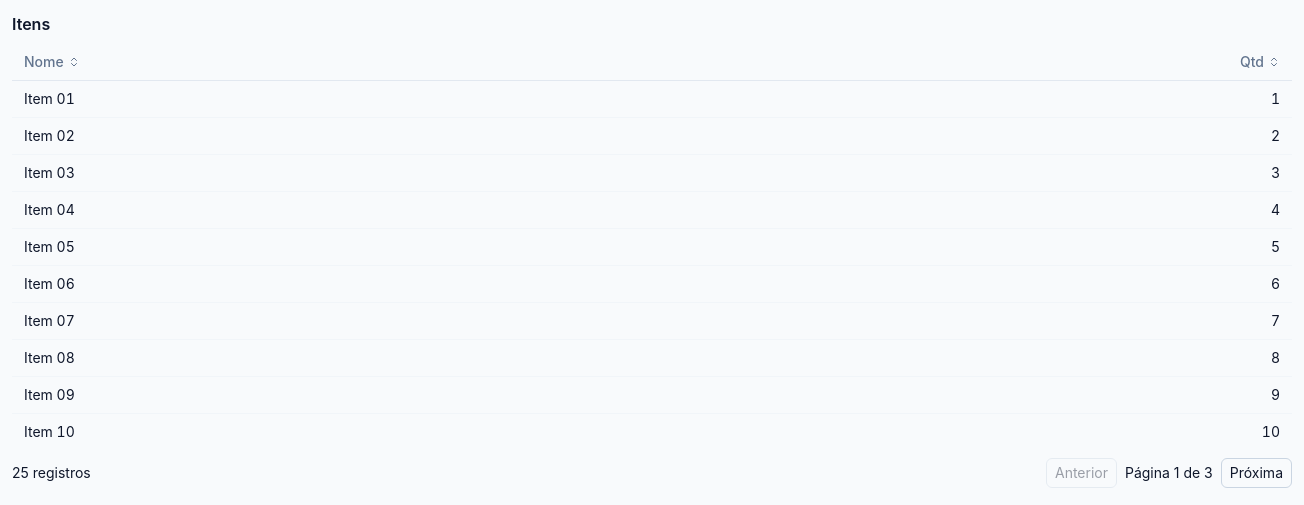
Test: DataTable pagination › shows only the page size and moves between pages
This screenshot has width=1304, height=505.
Expected: the text "Página 1 de 3" is shown, x1=1125 y1=463 x2=1213 y2=483
Expected: the text "25 registros" is shown, x1=12 y1=463 x2=91 y2=483
Click the button "Próxima" at (1256, 473), box x1=1221 y1=458 x2=1292 y2=488
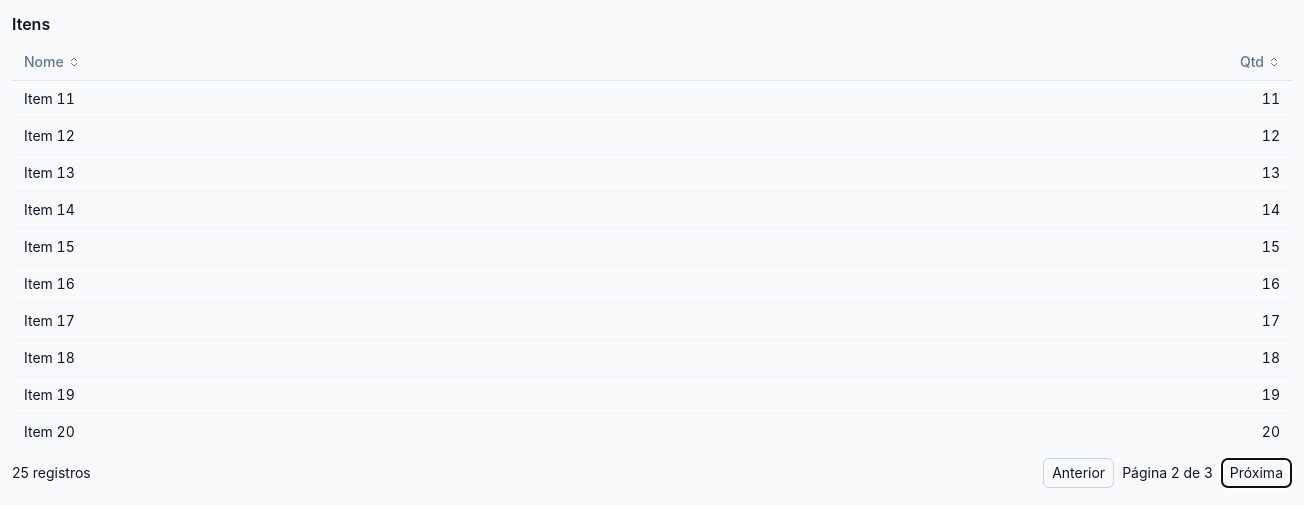
Expected: the text "Página 2 de 3" is shown, x1=1122 y1=463 x2=1213 y2=483
Expected: the text "Item 11" is shown, x1=12 y1=80 x2=722 y2=118
Expected: the text "Item 01" is gone
Click the button "Próxima" at (1256, 473), box x1=1221 y1=458 x2=1292 y2=488
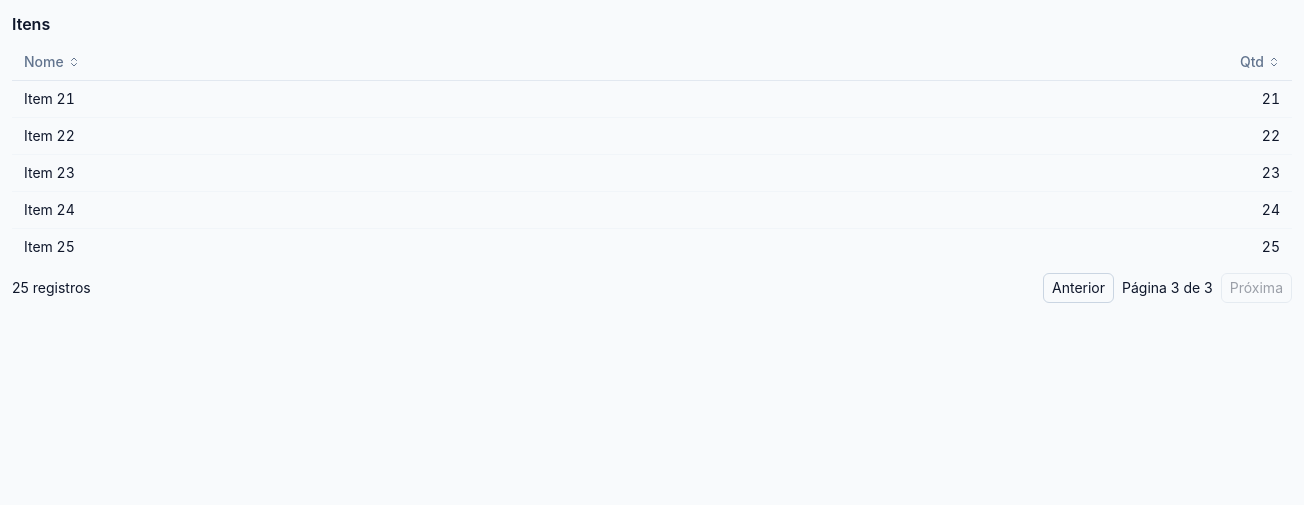
Expected: the number of rows is 6, x1=12 y1=44 x2=1292 y2=80; x1=12 y1=80 x2=1292 y2=118; x1=12 y1=118 x2=1292 y2=154; x1=12 y1=154 x2=1292 y2=192; x1=12 y1=192 x2=1292 y2=228; x1=12 y1=228 x2=1292 y2=265
Expected: the button "Próxima" is disabled, x1=1221 y1=273 x2=1292 y2=303
